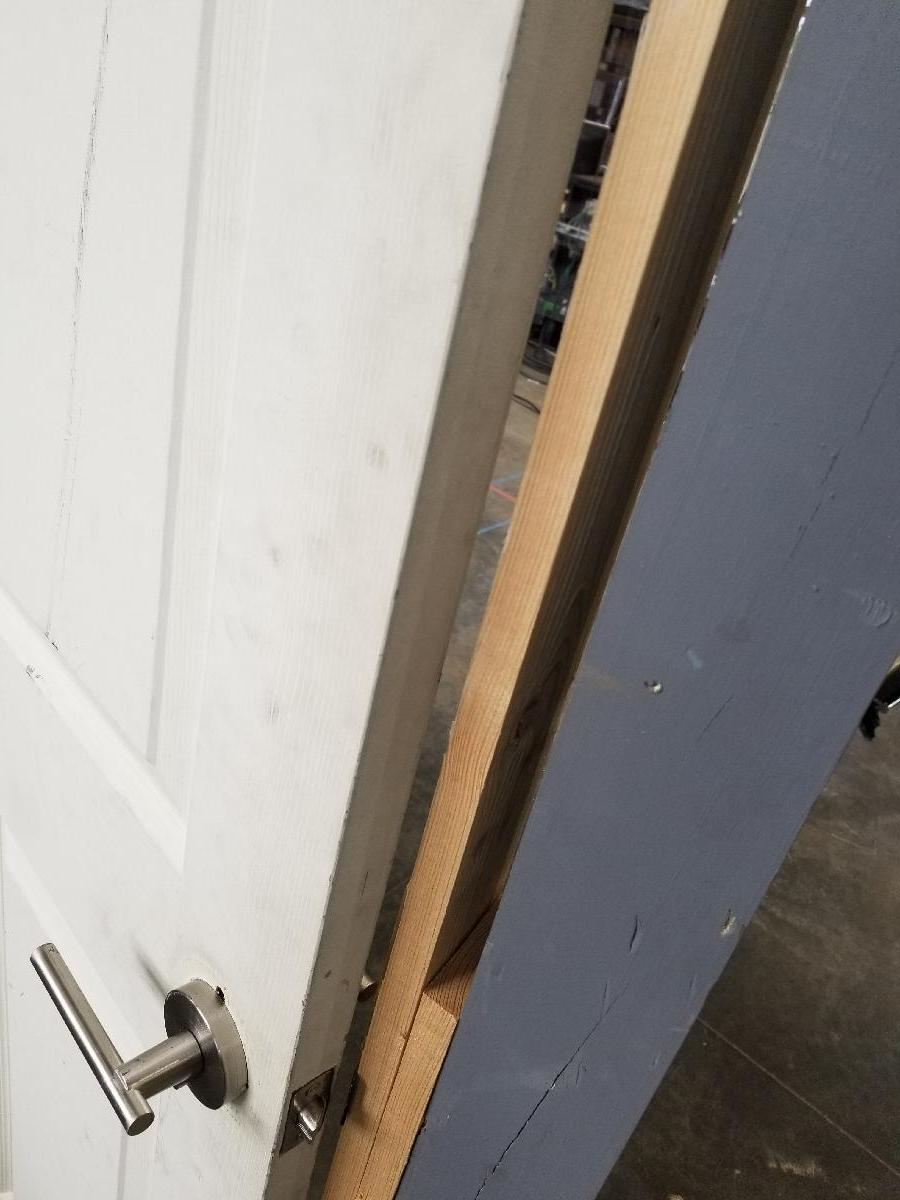door: (8, 8, 499, 1187)
handle: (29, 933, 246, 1141)
